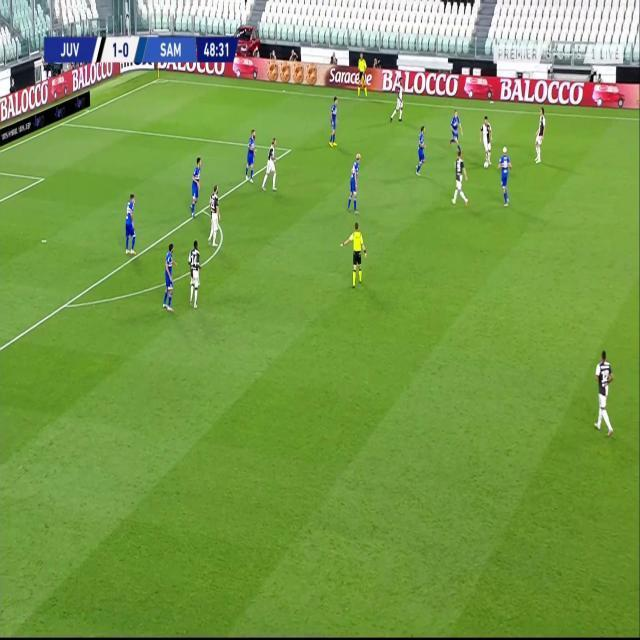ball: (484, 161, 489, 171)
player: (593, 345, 616, 437), (451, 149, 470, 209), (162, 241, 178, 312), (187, 239, 203, 309), (123, 191, 139, 257), (261, 136, 279, 193), (206, 184, 221, 247), (498, 144, 513, 206), (347, 151, 362, 213), (188, 154, 202, 218), (479, 114, 494, 167), (533, 106, 546, 164), (245, 128, 258, 183), (390, 77, 405, 123), (415, 125, 428, 178), (449, 108, 464, 153), (329, 94, 340, 148)
referee: (343, 221, 367, 287), (353, 53, 366, 99)
